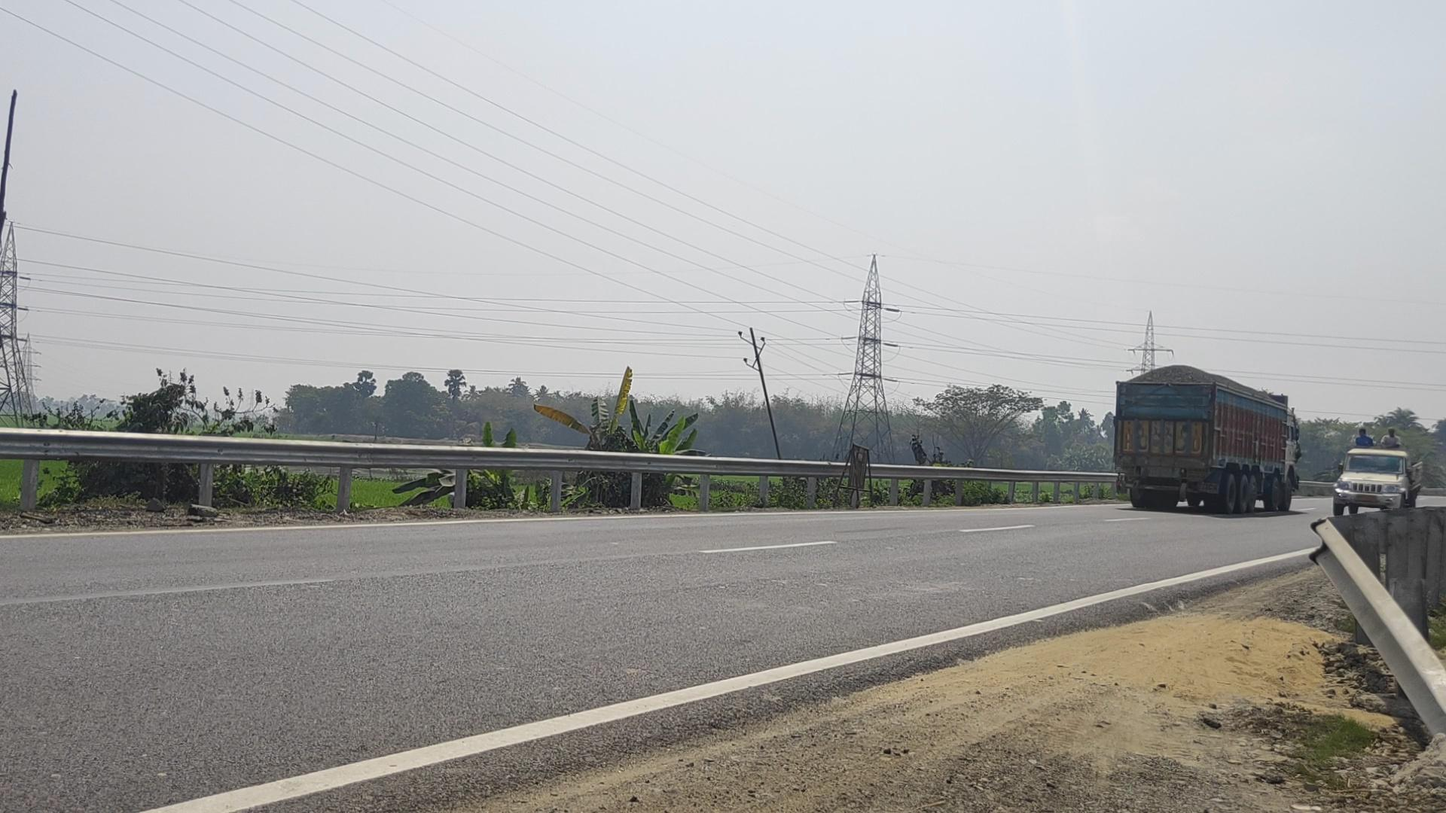truck: (1113, 365, 1301, 513)
van: (1334, 428, 1423, 517)
